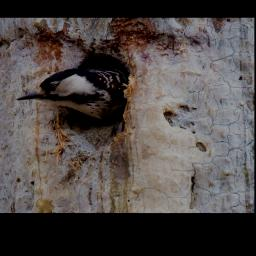Woodpecker: (17, 63, 126, 122)
